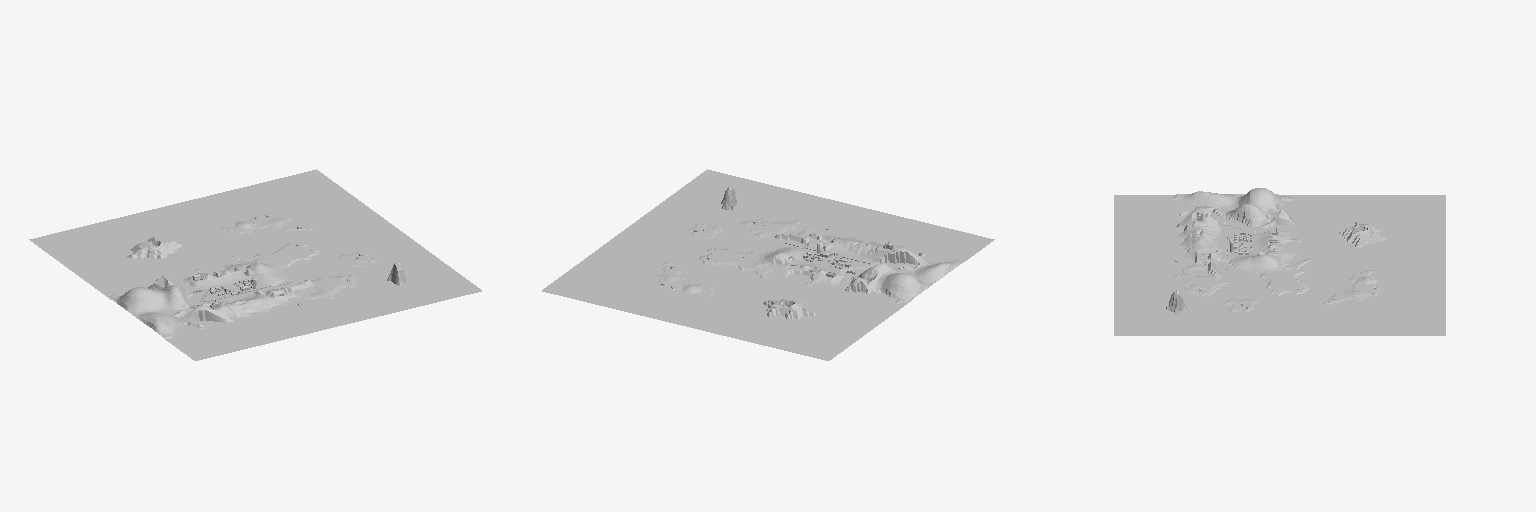
File: OutE3.Odm.obj
3 views of the same model, side by side, from view 1: azimuth 30°, elevation 25°; view 2: azimuth 150°, elevation 25°; view 3: azimuth 270°, elevation 25° (orthographic).
Parts seen in each view (by area): view 1: _Ground_; view 2: _Ground_; view 3: _Ground_.
Part boxes in pixels (x1,y1,x2,y2): _Ground_: (29,169,481,360); _Ground_: (542,169,994,360); _Ground_: (1114,188,1445,335).
Size of the model in its own units: 65024 by 4064 by 65024.